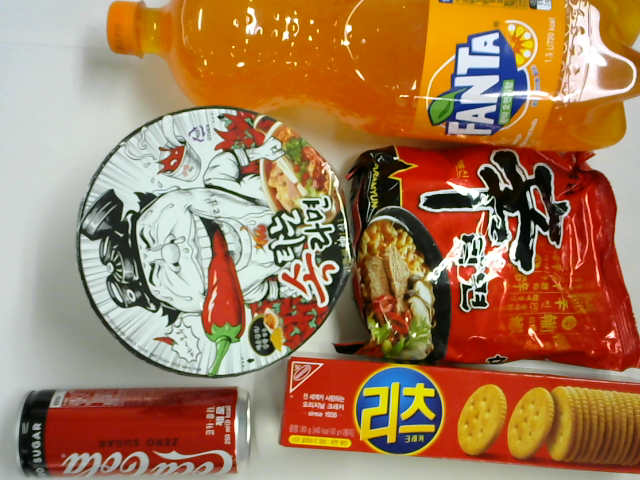Coca_Cola_Zero_Can_250ml: (11, 384, 255, 480)
HeJangsock: (75, 104, 355, 381)
Hwanta_Orange_1.5L: (107, 1, 640, 153)
Ritz_Cracker: (278, 357, 640, 477)
Sinramen: (331, 143, 640, 373)
